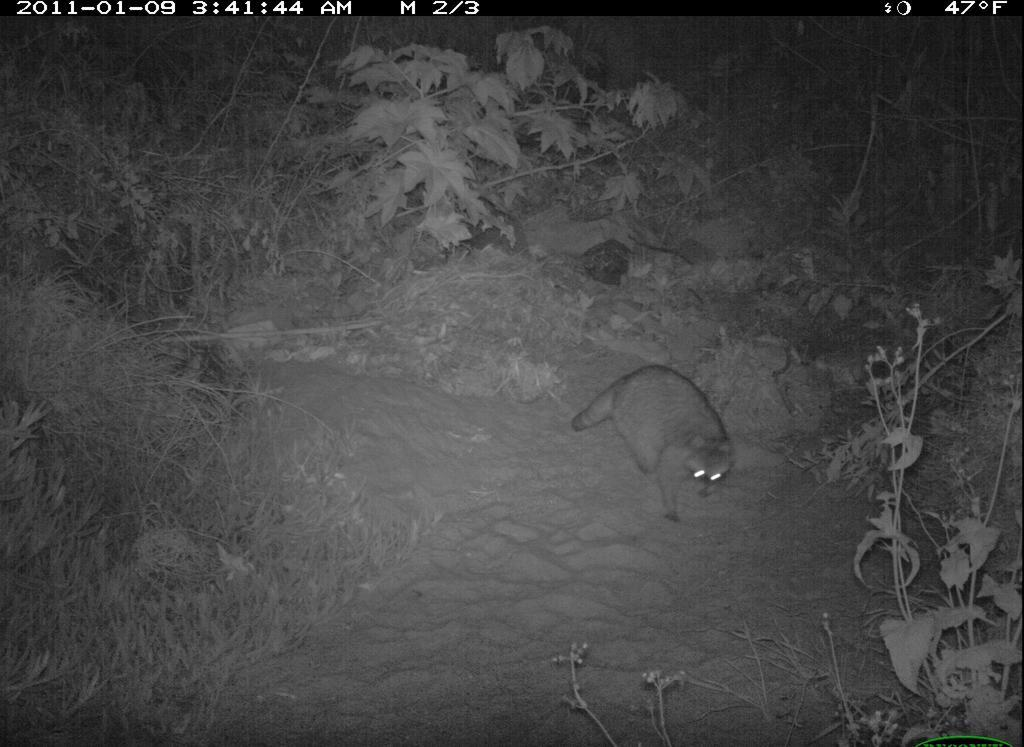raccoon: (569, 365, 741, 530)
